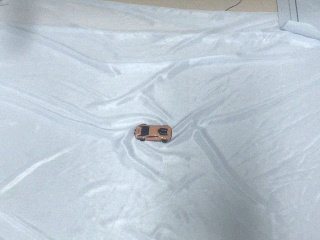toy_car: (134, 123, 173, 143)
